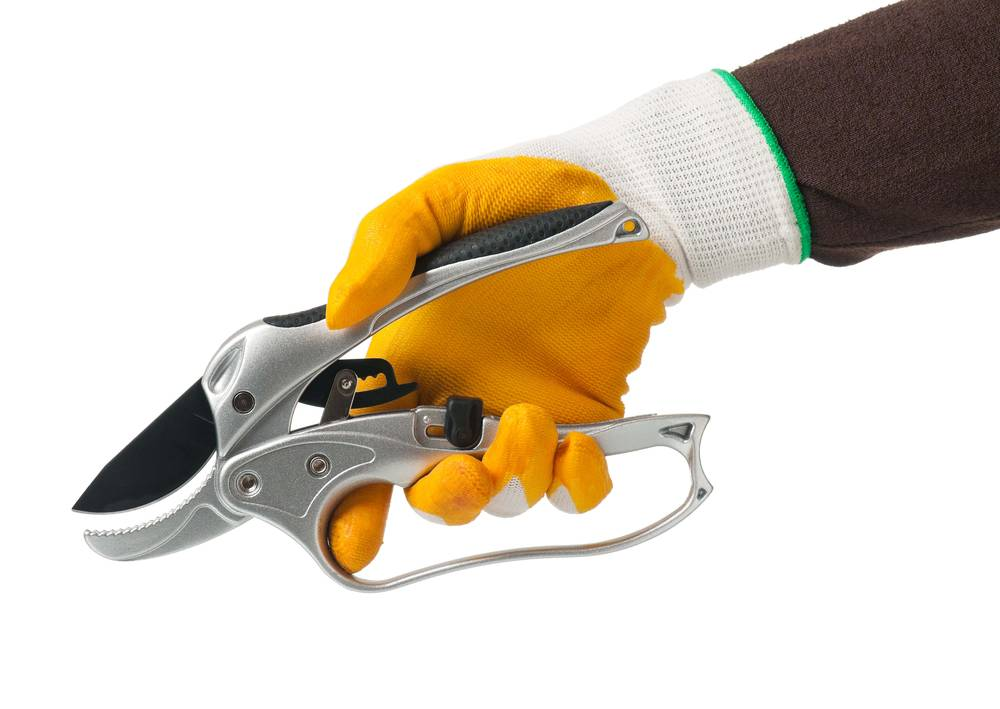scissor: (88, 227, 772, 614)
